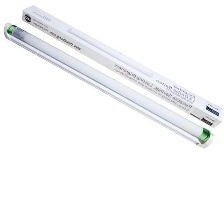book: (19, 2, 224, 128)
light_bulb: (6, 22, 214, 145)
